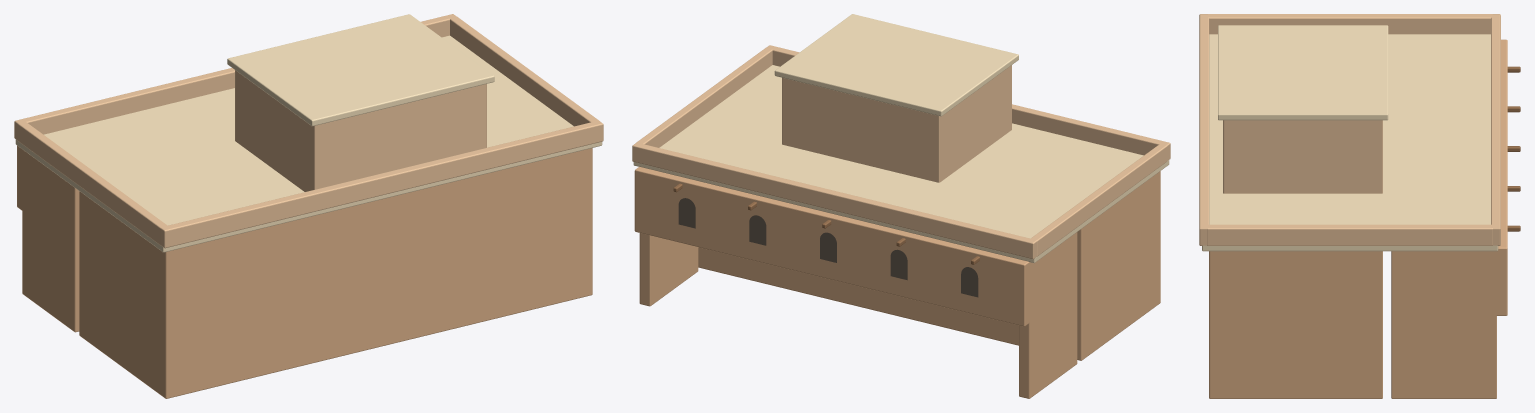
Rendered from SM_CaravanseraiArchitecture.fbx.
3 renders of one model, left to right at view 1: azimuth 30°, elevation 25°; view 2: azimuth 150°, elevation 25°; view 3: azimuth 270°, elevation 25°, orthographic. The views are drawn at different scales.
Parts seen in each view (by area): view 1: SM_CaravanseraiArchitecture_Export; view 2: SM_CaravanseraiArchitecture_Export; view 3: SM_CaravanseraiArchitecture_Export.
Boxes of the visible parts, x1,y1,x2,y2 form: SM_CaravanseraiArchitecture_Export: [14, 14, 603, 398]; SM_CaravanseraiArchitecture_Export: [632, 14, 1170, 398]; SM_CaravanseraiArchitecture_Export: [1199, 14, 1520, 398].
Bounding box in the file's own units: 2162 × 1366 × 1123.
